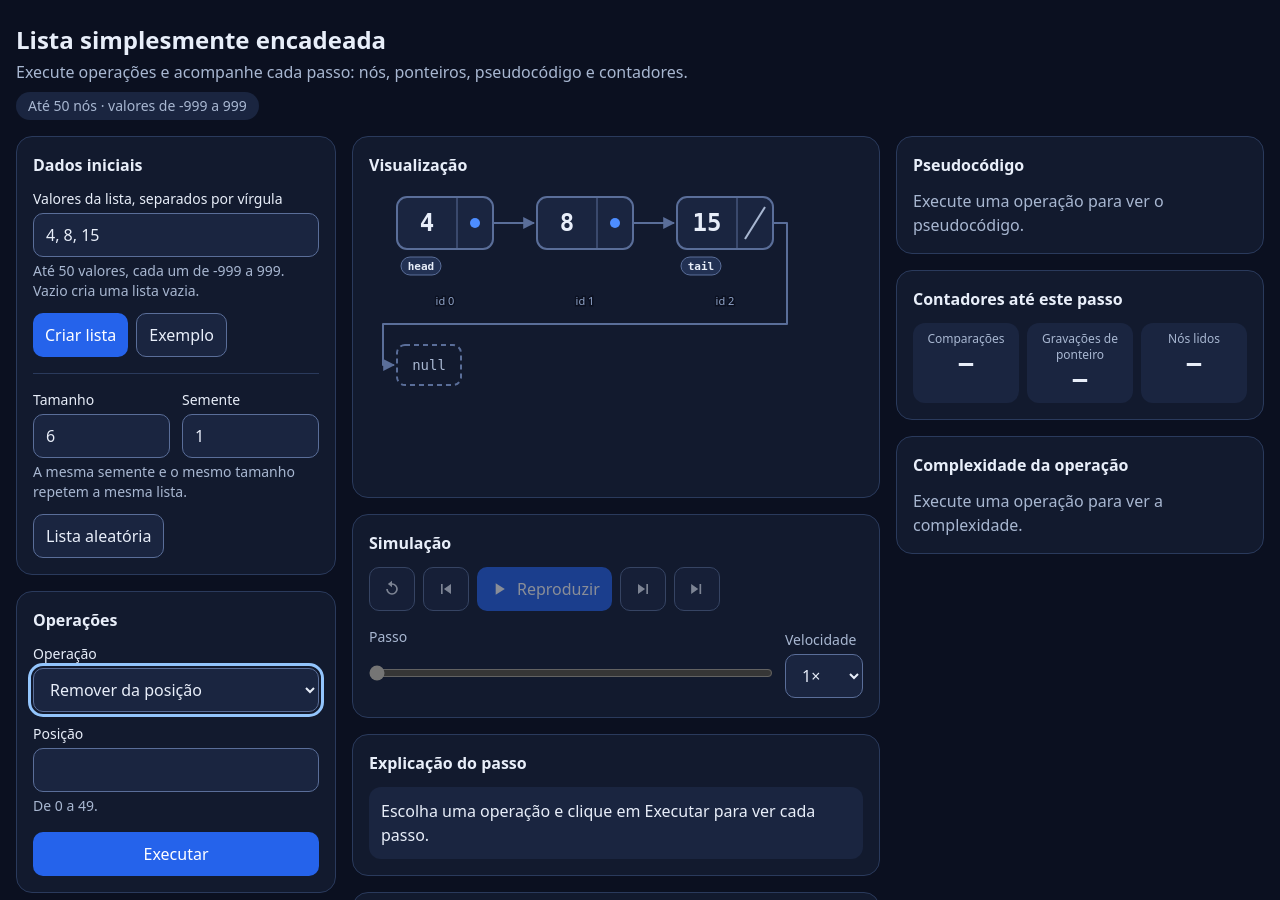
Test: tratamento de erros › posição negativa é entrada inválida; posição inexistente é recusa explicada
Earlier steps of the test are not shown.
Type "-1" into the field labelled "Posição" at [176, 770], box [33,748,319,792]
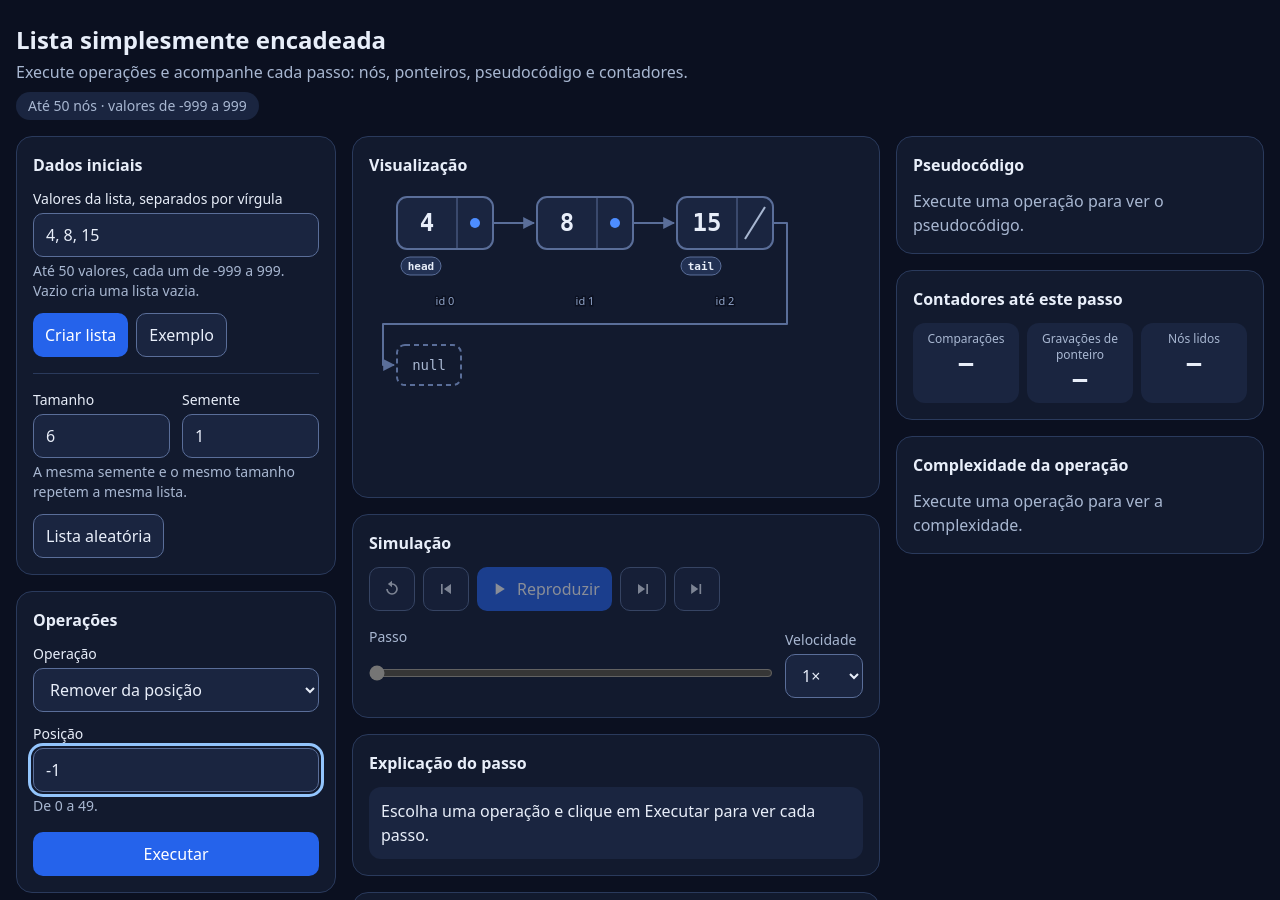
Click the button "Executar" at [176, 854], box [33,832,319,876]
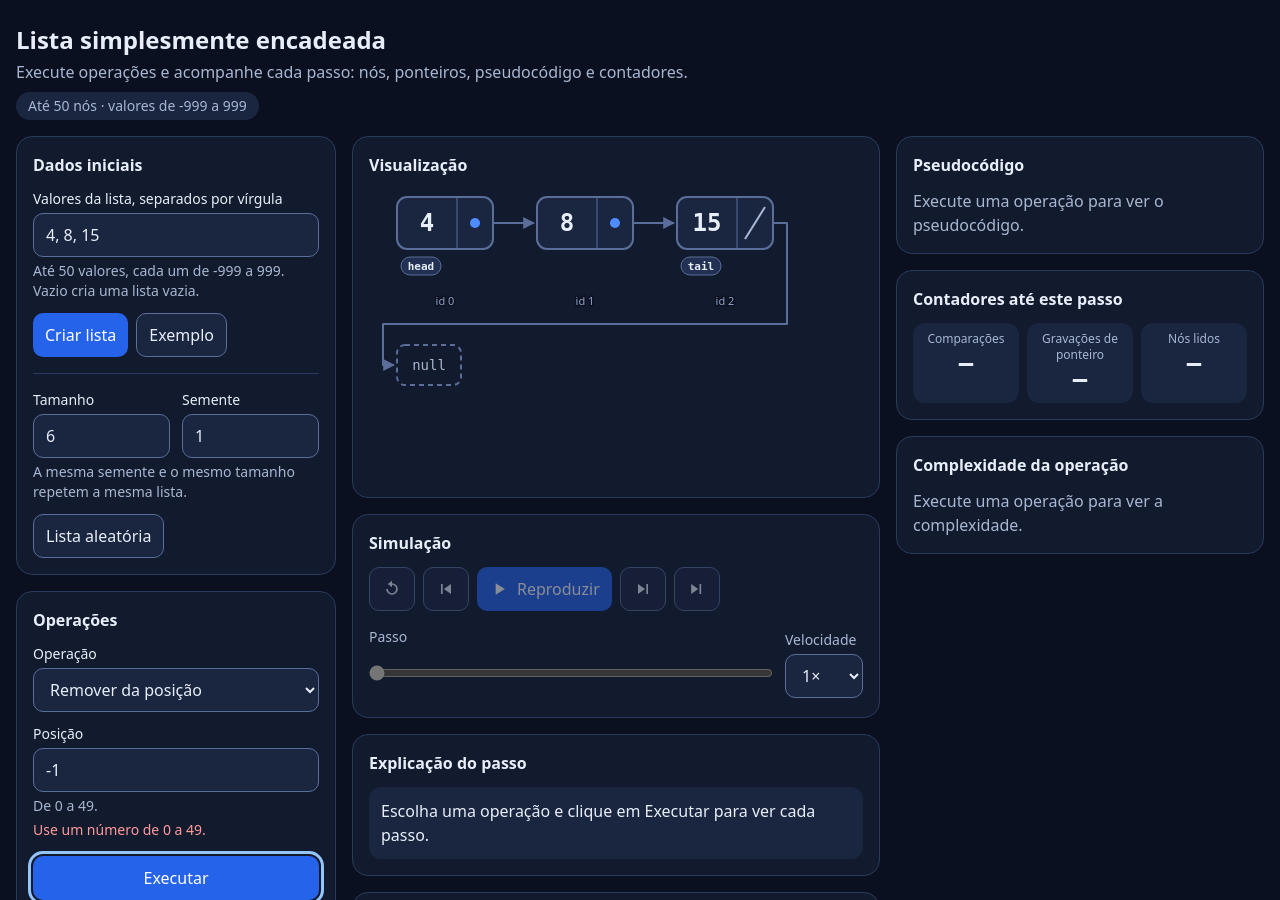
Select "Remover da posição" in the dropdown labelled "Operação" at [176, 690], box [33,668,319,712]
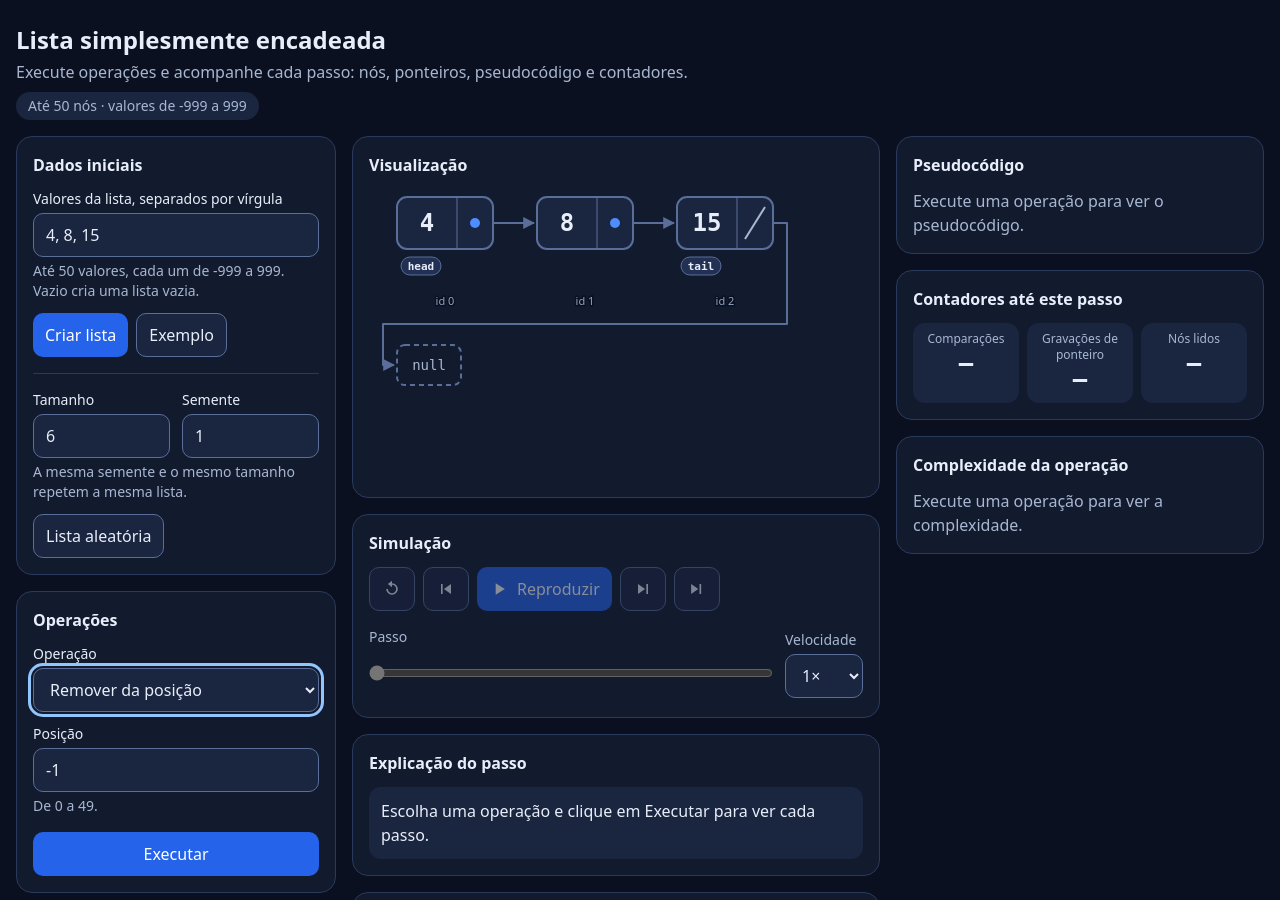
Replace the text in the field labelled "Posição" with "9" at [176, 770], box [33,748,319,792]
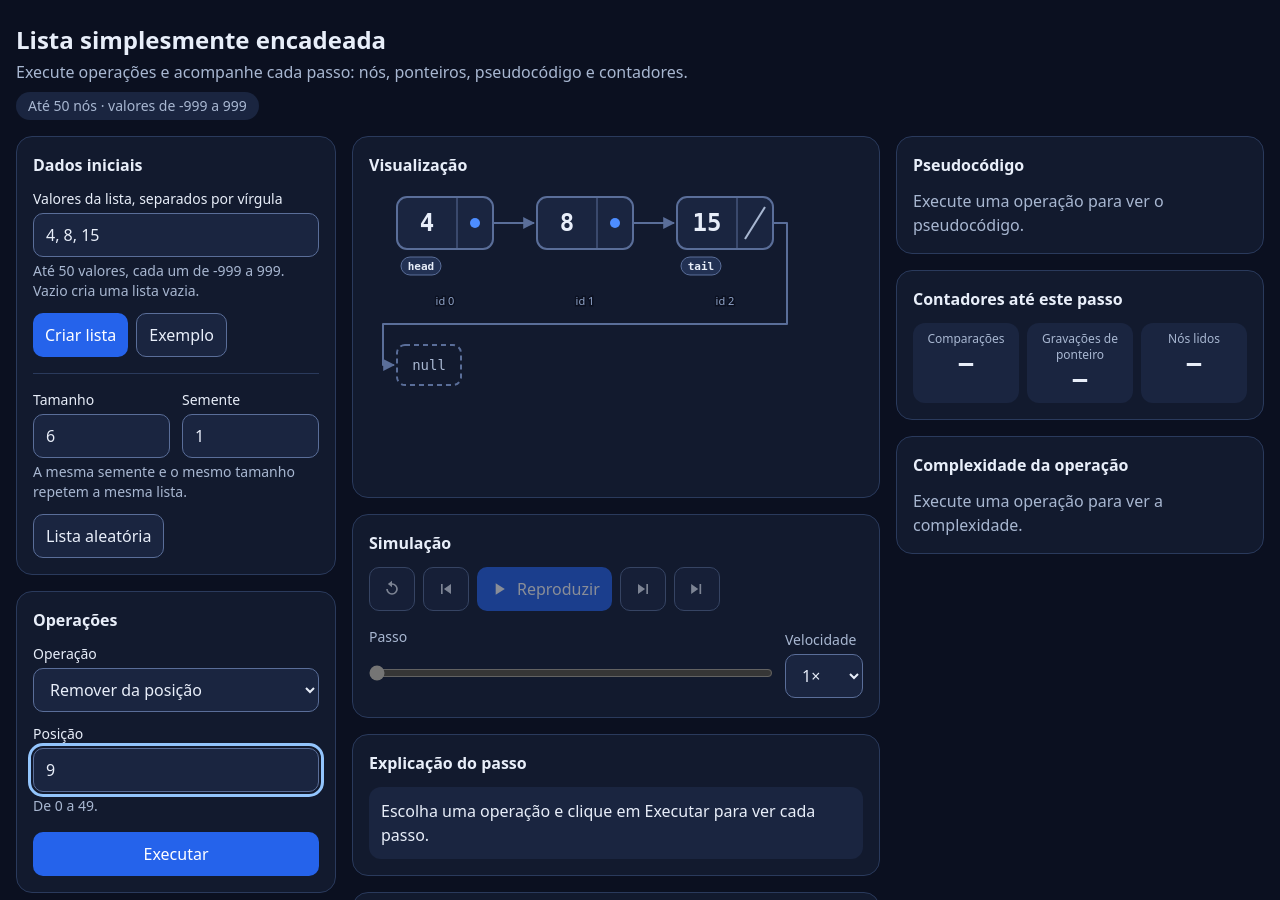
Click the button "Executar" at [176, 854], box [33,832,319,876]
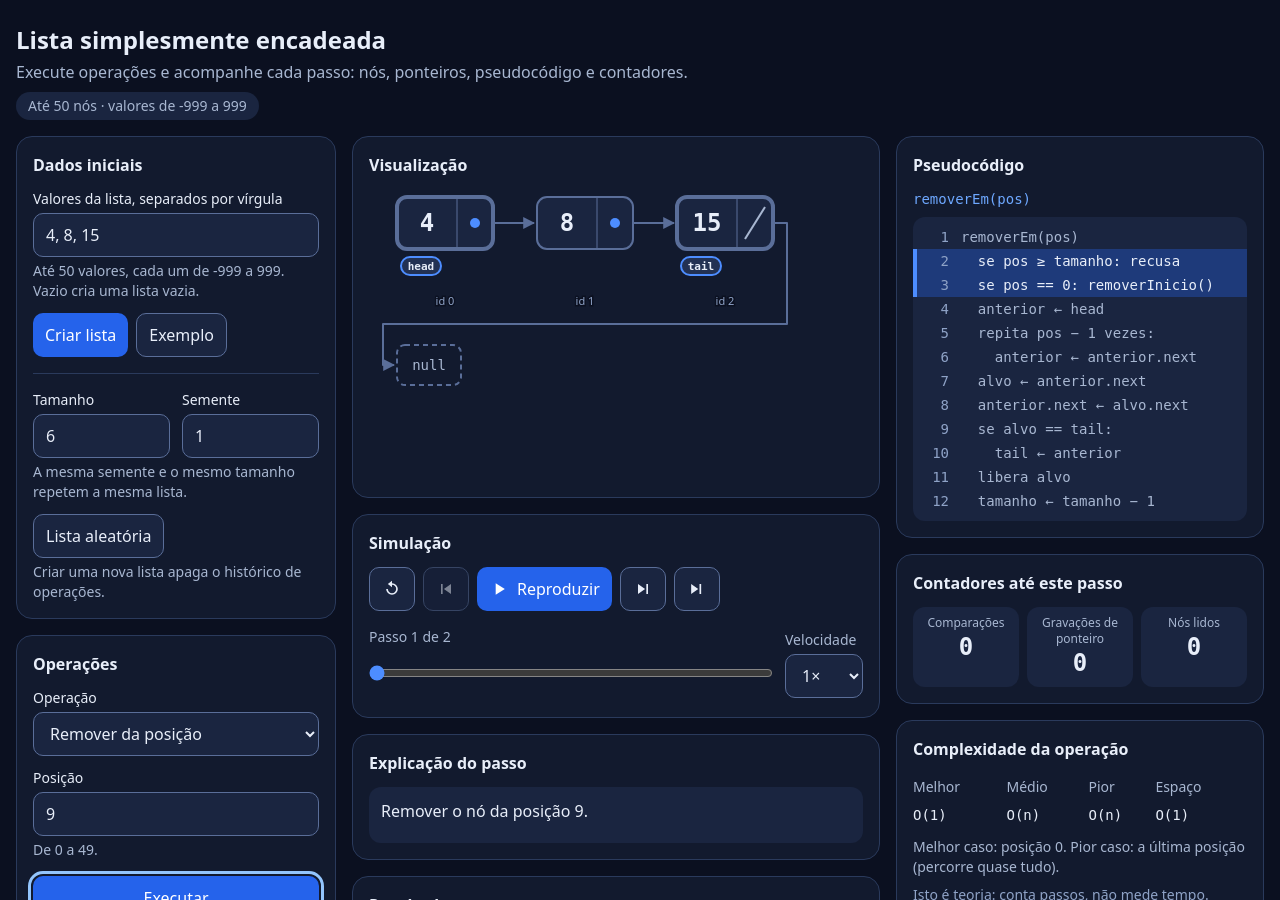
Click the button named "Ir ao último passo" at [697, 589], box [674,567,720,611]
(page scrolled)
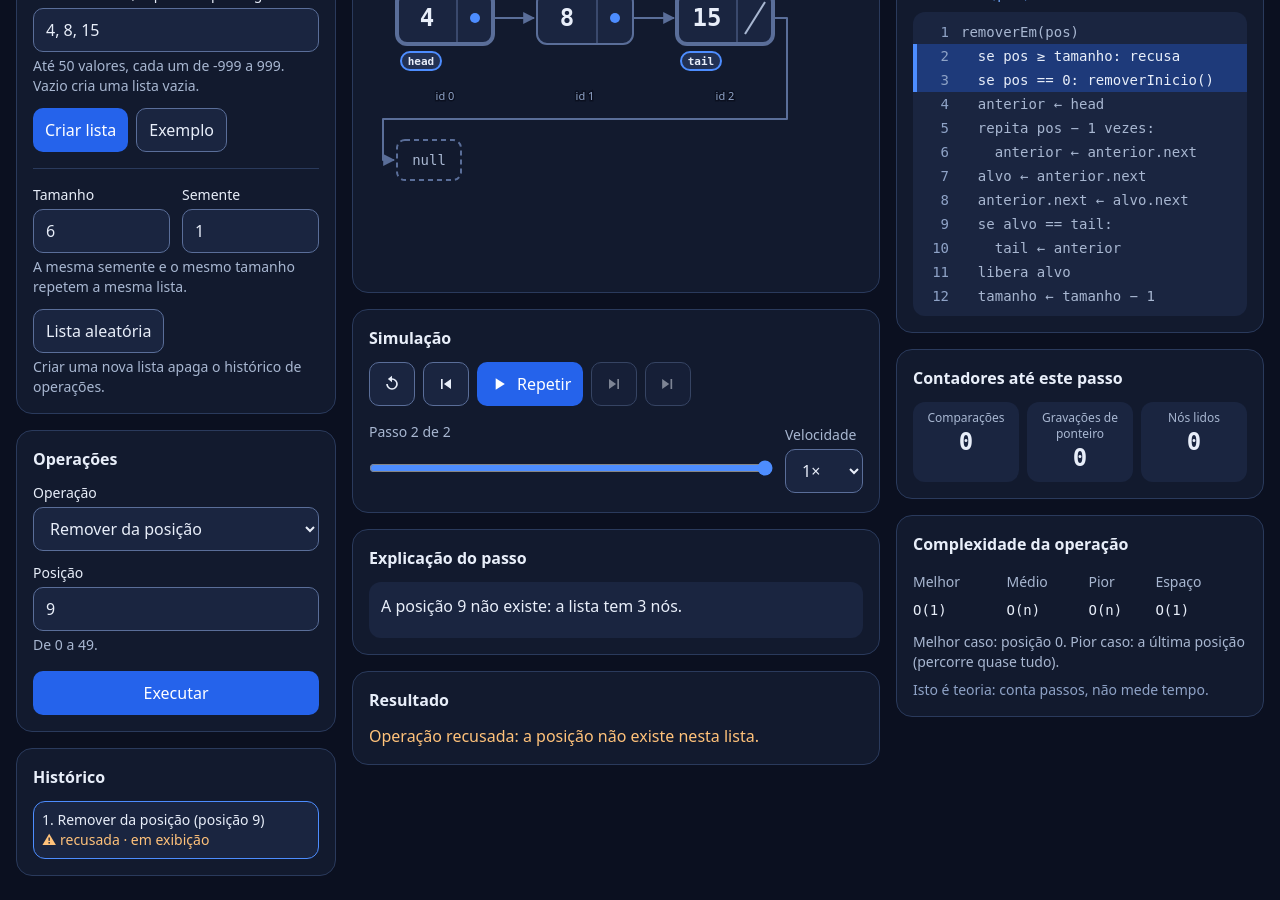
Now the text "⚠ recusada · em exibição" is shown, box [42,830,209,849]
Now the message with test id "step-message" reads "A posição 9 não existe: a lista tem 3 nós.", box [381,595,682,617]
Now the message with test id "result" reads "Operação recusada: a posição não existe nesta lista.", box [369,725,759,747]
